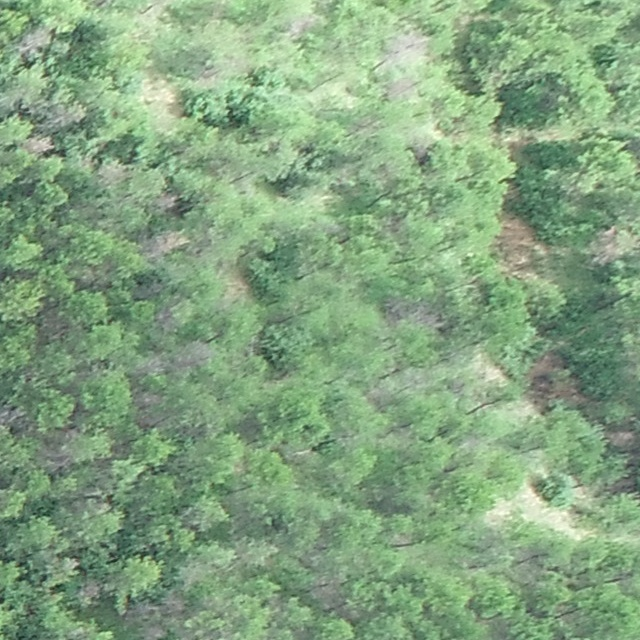unhealthy: (386, 298, 445, 333), (586, 225, 634, 266), (382, 30, 429, 66), (144, 228, 188, 259), (45, 102, 87, 129), (308, 576, 343, 608), (19, 26, 54, 58), (178, 339, 214, 369), (38, 443, 74, 472), (286, 11, 321, 38), (96, 158, 128, 186), (383, 74, 416, 101), (135, 350, 168, 374), (23, 134, 55, 157), (0, 403, 26, 428), (160, 592, 187, 616), (77, 580, 102, 603), (135, 388, 164, 407), (156, 192, 183, 212), (141, 623, 166, 640)
